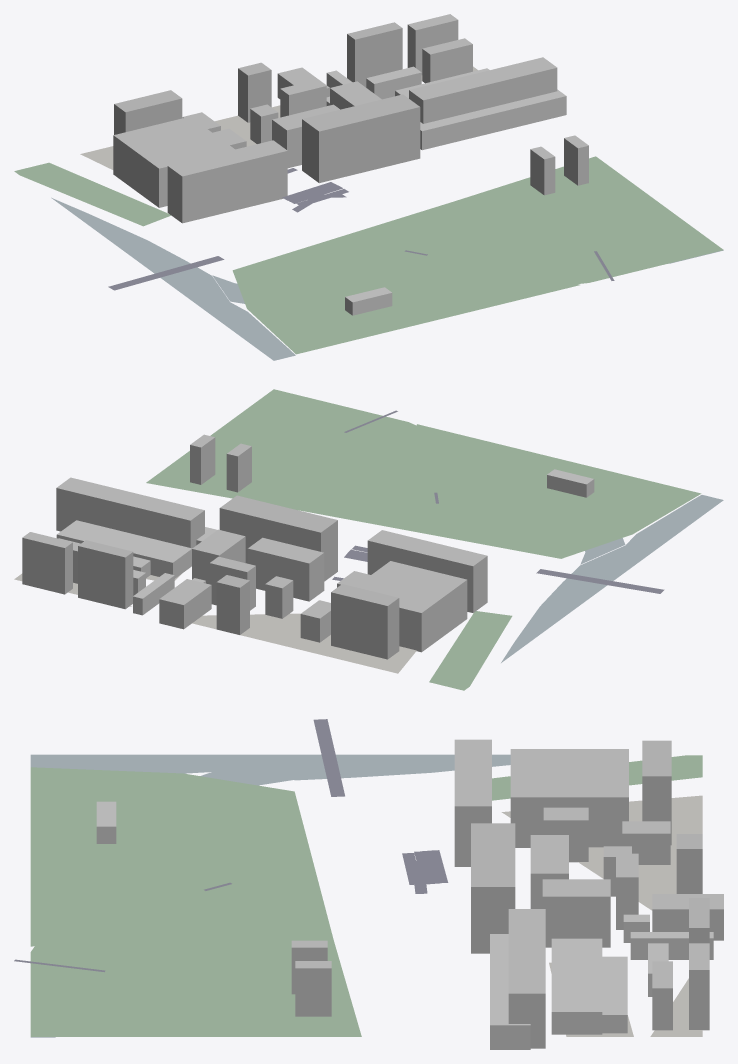
Rendered from 124_89_mid.glb.
The picture shows the model from 3 angles, top to bottom: view 1: azimuth 30°, elevation 25°; view 2: azimuth 150°, elevation 25°; view 3: azimuth 270°, elevation 25°; orthographic projection. The views are drawn at different scales.
Bounding box in the file's own units: 579 × 57.74 × 528.
